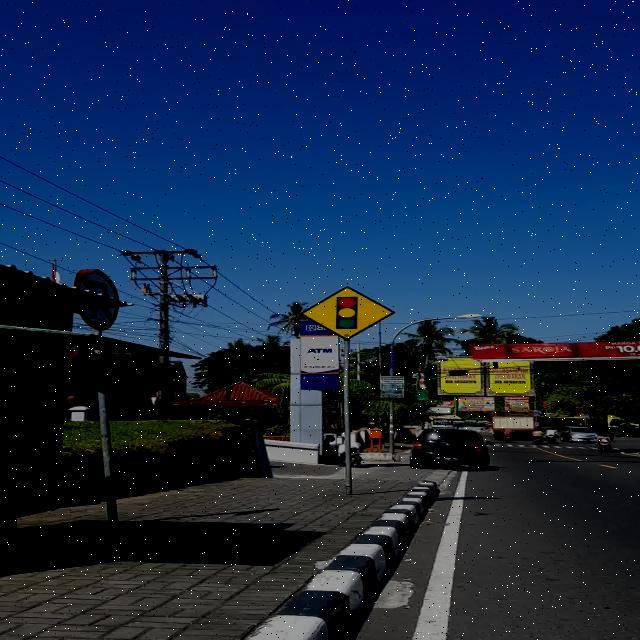Lampu Lalu Lintas: (301, 286, 396, 340)
